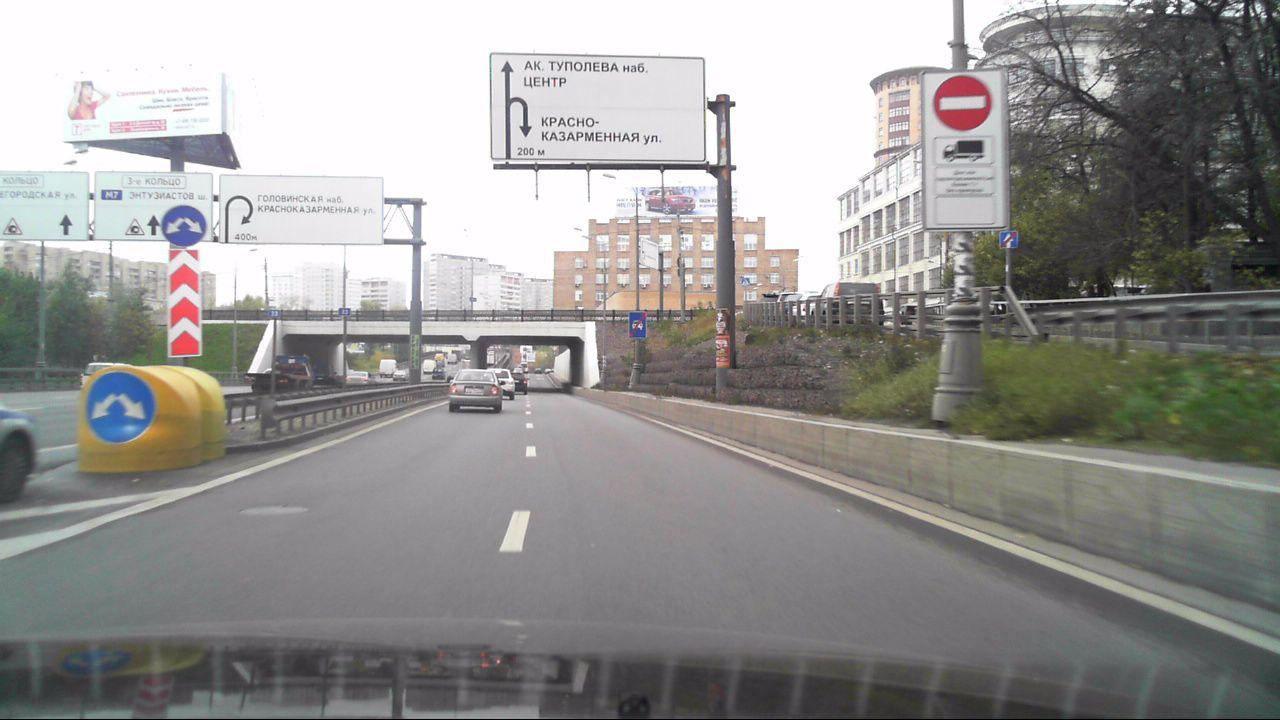3_1: (930, 75, 995, 130)
4_2_3: (80, 370, 159, 446), (160, 204, 207, 246)
5_4: (629, 309, 648, 337)
5_6: (1001, 230, 1020, 249)
6_9_1: (490, 47, 707, 163), (220, 174, 384, 246), (89, 176, 212, 242), (0, 174, 85, 244)
8_22_3: (166, 248, 204, 360)
8_4_1: (930, 134, 995, 166)
